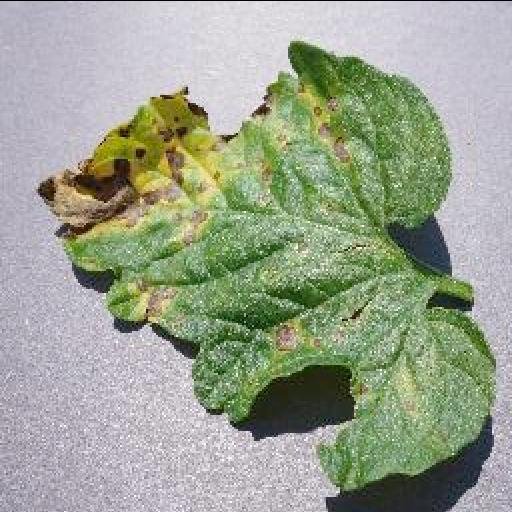disease_tomato: (36, 38, 498, 492)
